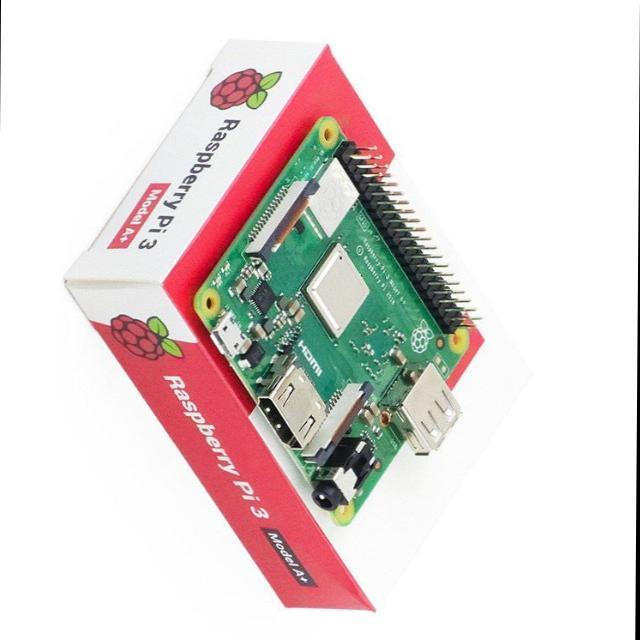Raspberry-Pi-3-A-: (194, 117, 475, 525)
